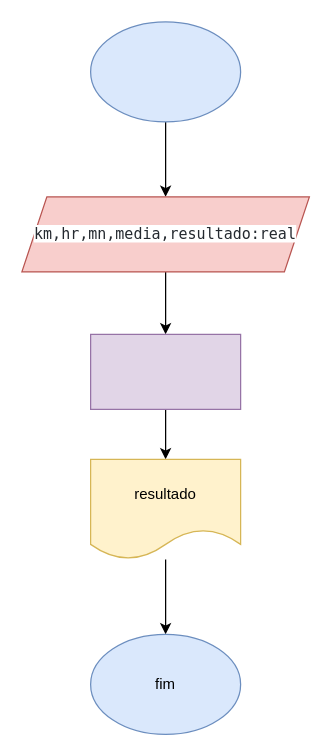
This 331x756 diagram has some shape labels left out. The shapes that lost their labels are listed below. From the top down, each one's centre as x and y in pixels, then its label:
point 165,71: inicio
point 165,371: resultado<- (mn/60)+hr media<-km/resultado
